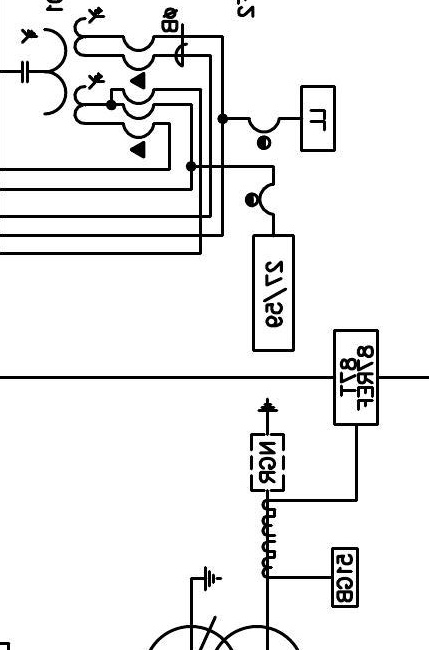115_cvt_3p: (21, 6, 106, 126)
LL: (300, 85, 336, 152)
NGR_future: (249, 397, 286, 492)
